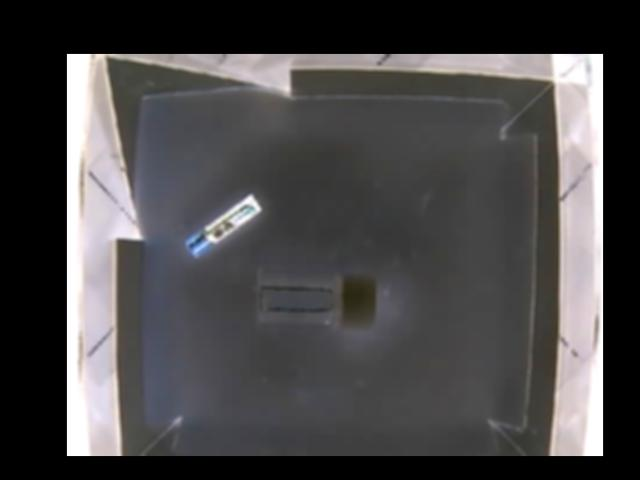Battery: (185, 195, 263, 255)
Bottle: (253, 268, 376, 327)
